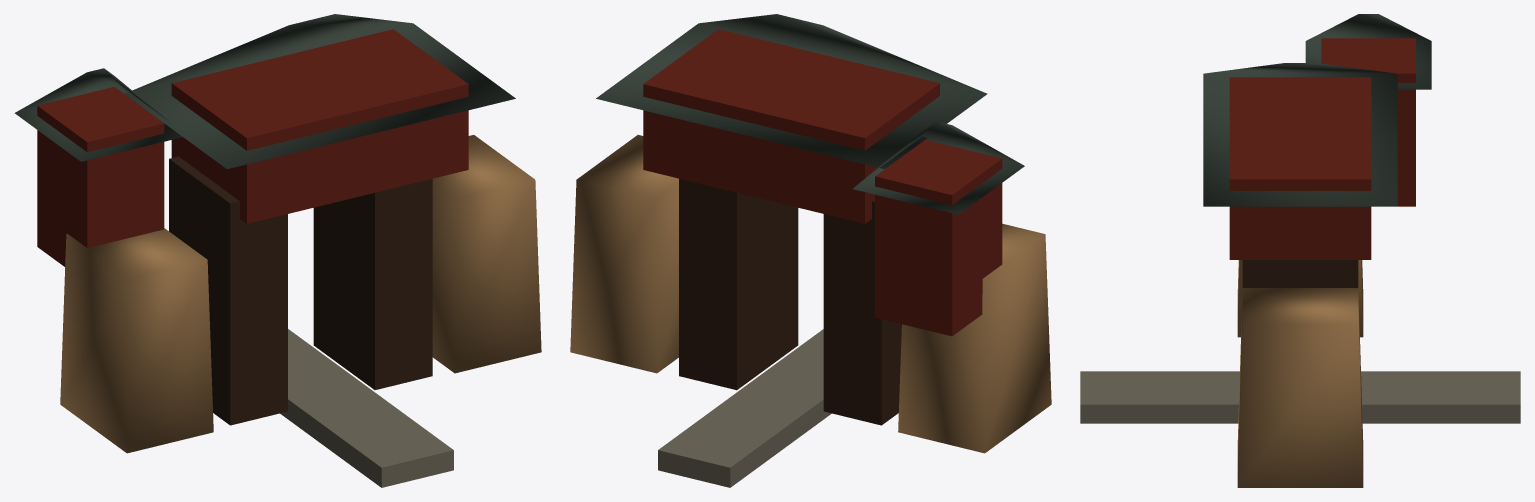
The model's file is R17_HAN_LUOYANG_GATE_SHANGXIMEN_A.fbx.
The picture shows the model from 3 angles, left to right: view 1: azimuth 30°, elevation 25°; view 2: azimuth 150°, elevation 25°; view 3: azimuth 270°, elevation 25°; orthographic projection. The views are drawn at different scales.
Visible parts, largest first — view 1: house, wall_e, pier_w, wall_w, pier_e, watch_e, roof, road, watch_roof; view 2: house, wall_e, pier_w, wall_w, watch_e, roof, pier_e, road, watch_roof; view 3: wall_w, house, road, roof, watch_e, pier_w, watch_roof, wall_e.
Boxes of the visible parts, x1,y1,x2,y2 form: house: (171, 29, 468, 223); wall_e: (60, 228, 213, 453); pier_w: (313, 178, 432, 389); wall_w: (432, 135, 541, 373); pier_e: (169, 156, 287, 425); watch_e: (37, 87, 164, 266); roof: (124, 14, 515, 169); road: (280, 329, 453, 487); watch_roof: (14, 68, 182, 161); house: (643, 29, 939, 223); wall_e: (898, 223, 1051, 453); pier_w: (679, 178, 798, 390); wall_w: (570, 135, 678, 373); watch_e: (875, 139, 1002, 336); roof: (596, 14, 987, 169); pier_e: (823, 199, 901, 425); road: (658, 329, 831, 487); watch_roof: (853, 121, 1024, 214); wall_w: (1237, 288, 1363, 487); house: (1229, 77, 1371, 259); road: (1080, 371, 1520, 423); roof: (1203, 63, 1397, 206); watch_e: (1321, 38, 1415, 206); pier_w: (1242, 260, 1358, 287); watch_roof: (1305, 14, 1431, 89); wall_e: (1237, 260, 1363, 337).
Size of the model in its own units: 88 by 72 by 84.
